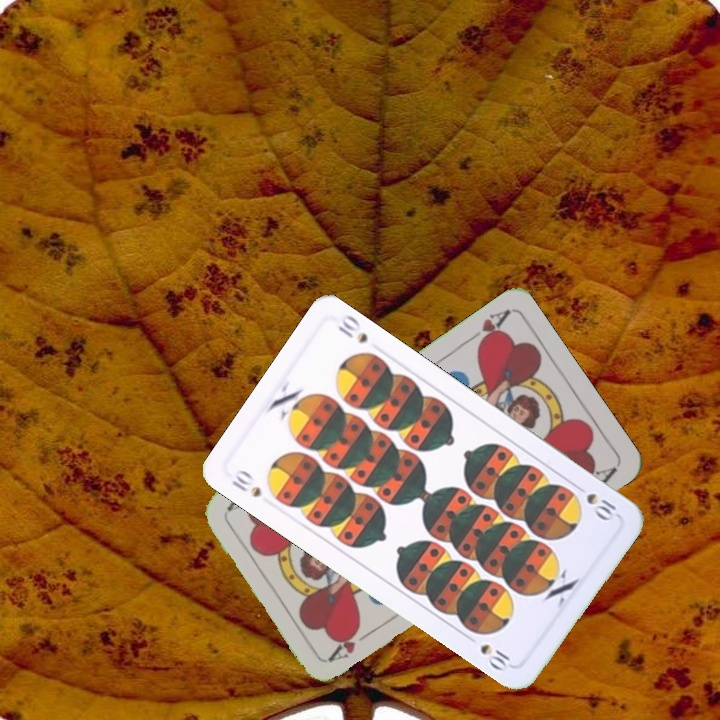HA: (460, 306, 512, 351), (325, 624, 378, 664)
S10: (569, 479, 621, 524), (227, 465, 264, 500)
